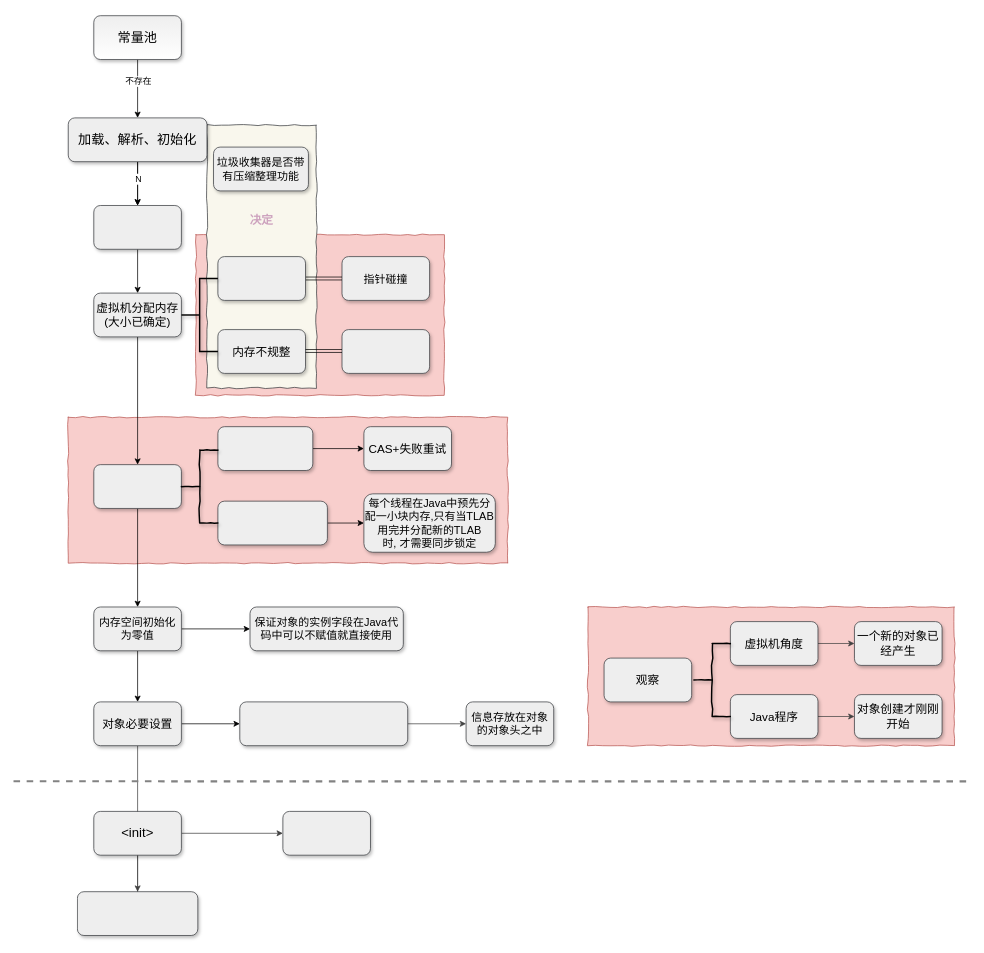
Image size: 984x953. Some labels were removed from this diagram. The shapes that lost their labels are listed below. From the top down, each one's centre as x and y in pixels, then its label:
At point 138,228: "类加载".
At point 262,279: "内存规整".
At point 386,352: "空闲列表".
At point 265,449: "分配内存空间的动作进行同步处理".
At point 138,487: "并发指针修改".
At point 273,523: "把内存分配的动作按照线程划分在不同的空间之中进行".
At point 324,724: "哪个对象是哪个类的实例、如何才能找到类的元数据信息、对象哈希码、对象的GC分代年龄状态".
At point 327,834: "按照程序员的意愿进行初始化".
At point 138,914: "一个对象才算完全创建".
